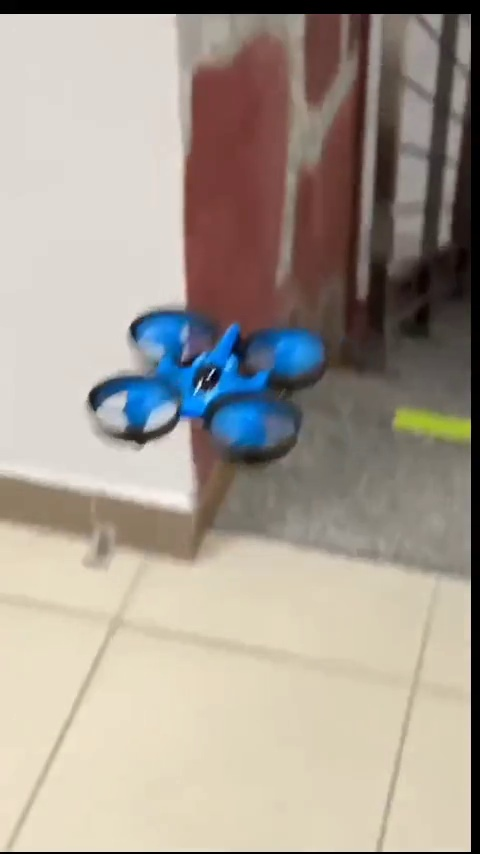drone: (87, 304, 328, 453)
